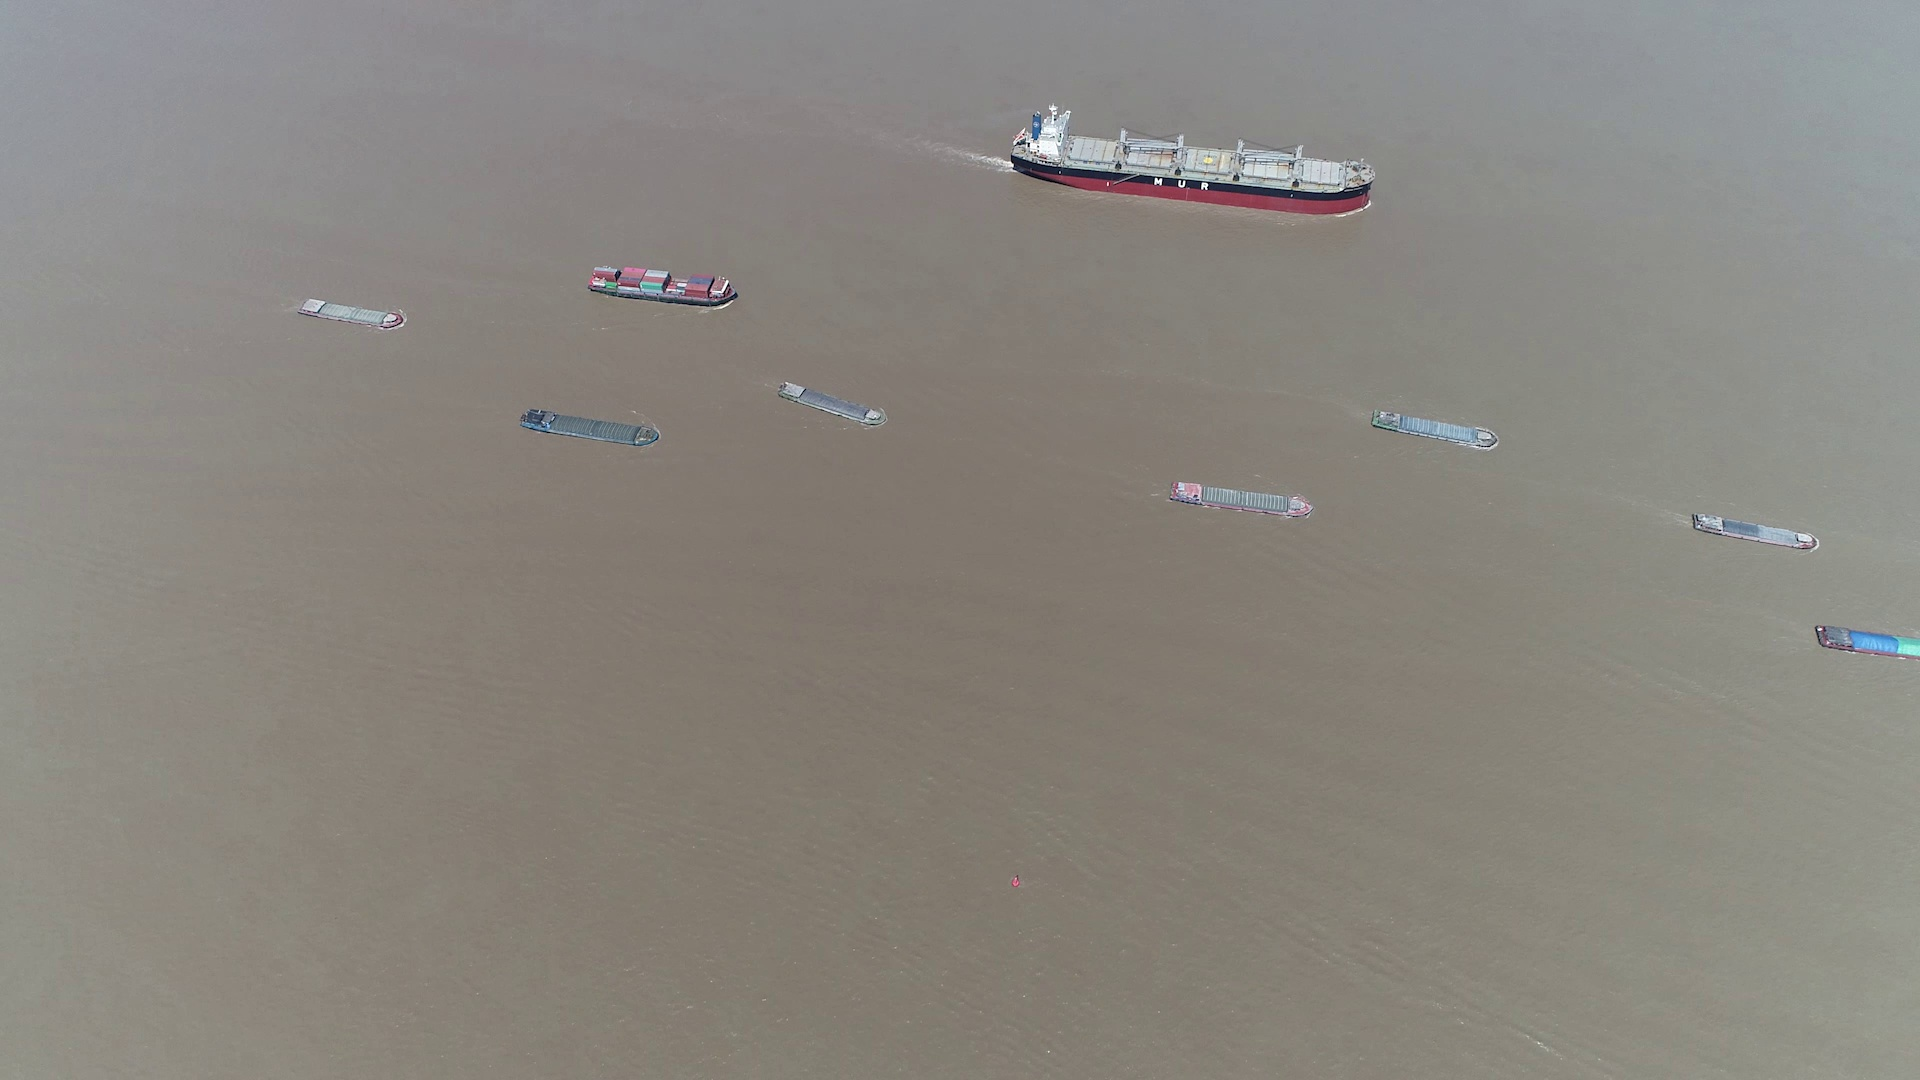ship: (1009, 109, 1371, 211), (589, 265, 740, 307), (520, 407, 659, 447), (1168, 479, 1312, 517), (778, 381, 889, 429), (1689, 512, 1817, 551), (1371, 409, 1498, 448), (1815, 622, 1920, 659), (298, 298, 407, 328)
